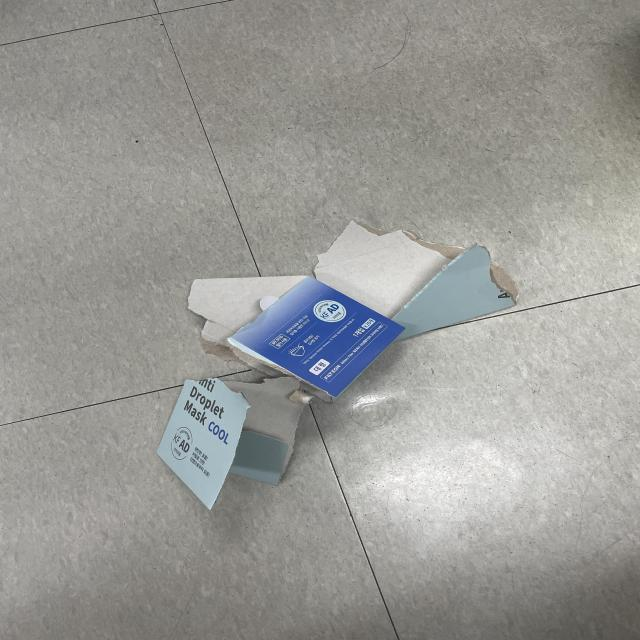litter: (149, 219, 527, 515)
